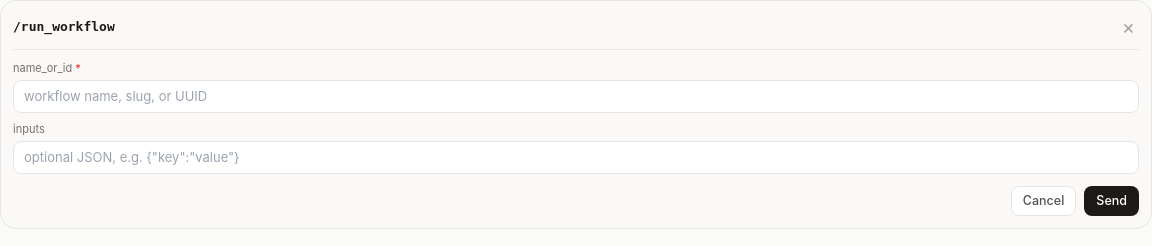
ArgAutocomplete (via SlashForm run_workflow) › loads options from the completer and displays them
Focus the field labelled "name_or_id *" at (576, 96), box [13,80,1139,113]
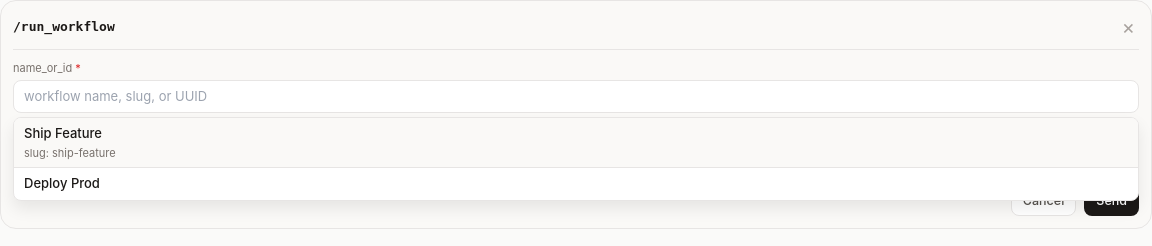
expect the text "Ship Feature" is shown: met, box [24,125,102,141]
expect the text "Deploy Prod" is shown: met, box [24,175,100,191]
